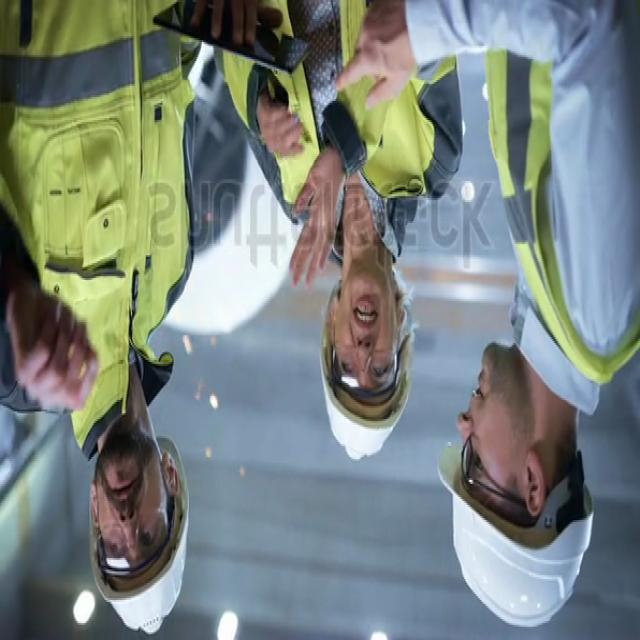Glasses: (94, 505, 175, 580), (458, 430, 532, 512), (328, 338, 403, 398)
Helmet: (432, 440, 594, 634), (91, 449, 189, 639), (320, 358, 414, 466)
Vest: (5, 0, 196, 444), (225, 0, 462, 261), (488, 0, 640, 379)
